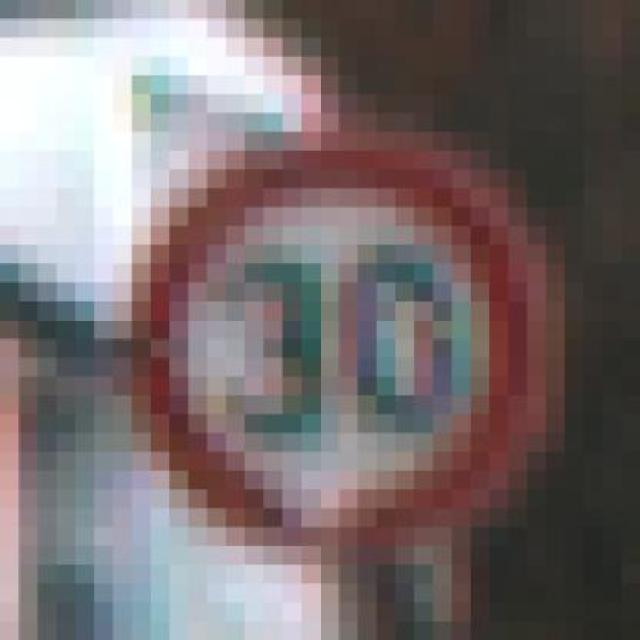Speed Limit 30 KMPh: (112, 75, 565, 602)
